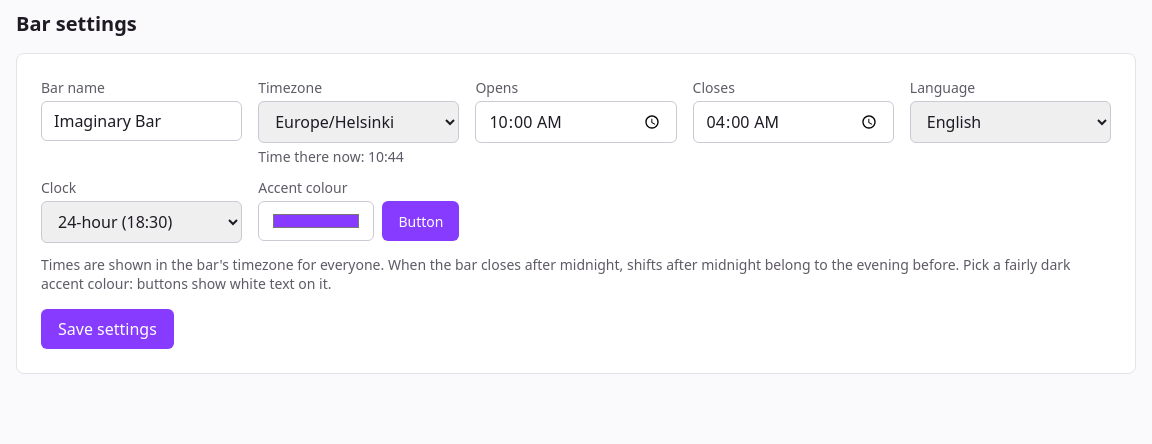
shows the current settings and saves the changes
This screenshot has width=1152, height=444.
Expected: the dropdown labelled "Timezone" shows "Europe/Helsinki", [258,101,459,143]
Step 1. Select "Suomi" in the dropdown labelled "Language" → (1010, 122), box [910,101,1111,143]
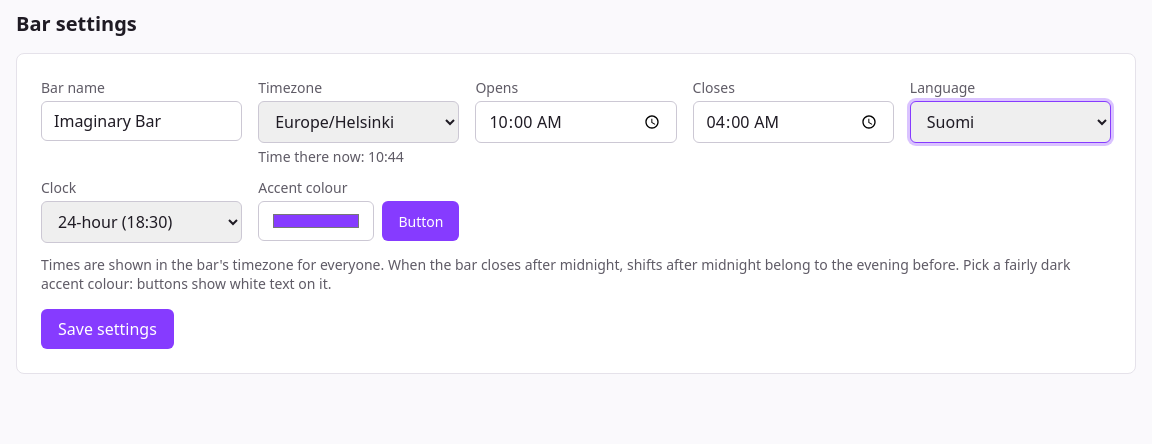
Step 2. Replace the text in the time field labelled "Opens" with "16:00" → (576, 122), box [475,101,677,143]
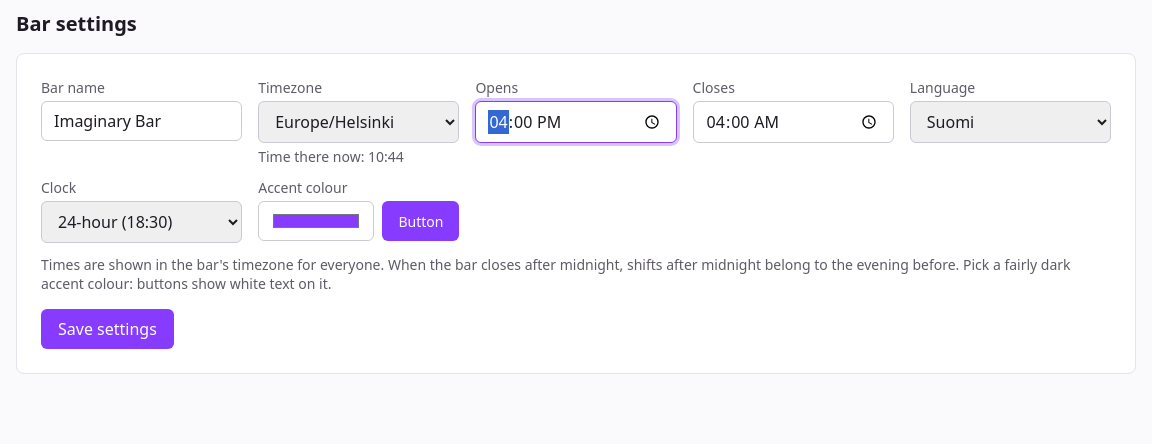
Step 3. Click the button "Save settings" → (107, 329), box [41,309,174,349]
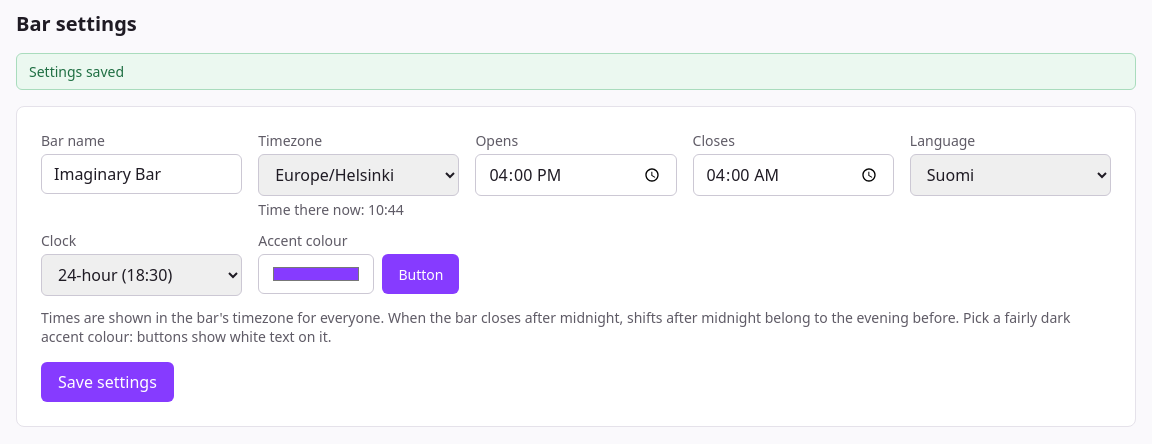
Expected: the message reads "Settings saved", [29,62,124,81]
